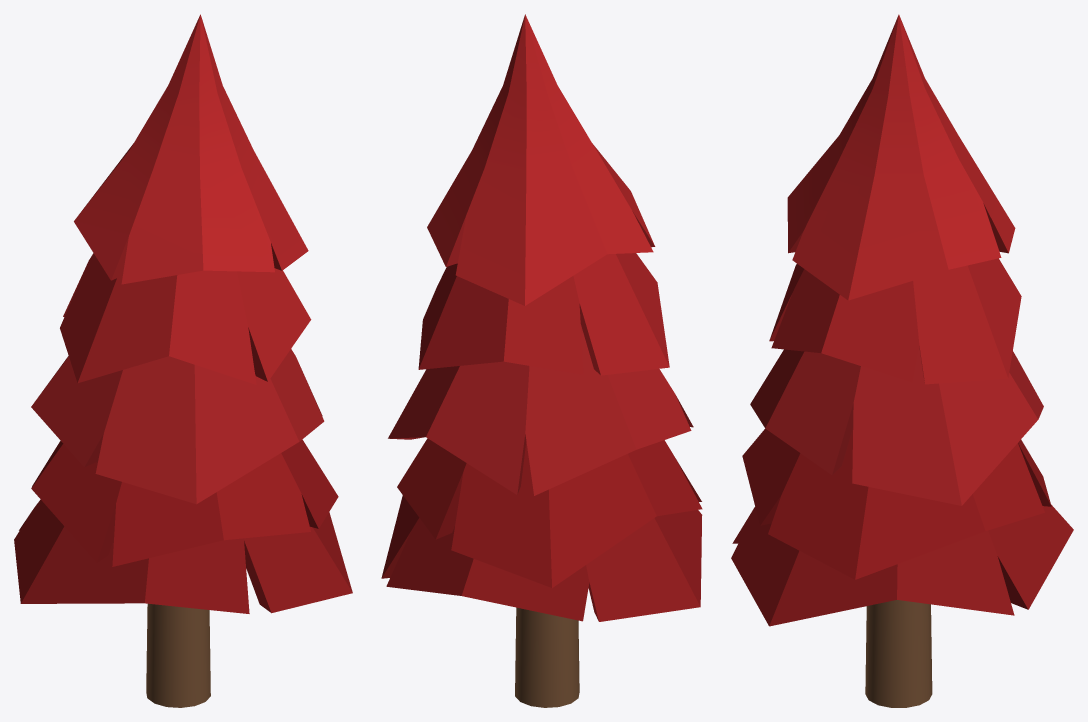
Rendered from Spruce_Red_1.fbx.
3 renders of one model, left to right at view 1: azimuth 30°, elevation 25°; view 2: azimuth 150°, elevation 25°; view 3: azimuth 270°, elevation 25°, orthographic. The views are drawn at different scales.
Visible parts, largest first — view 1: Cylinder.472, Cylinder.473, Cylinder.474, Cylinder.476, Cylinder.475, Cylinder.477; view 2: Cylinder.472, Cylinder.473, Cylinder.475, Cylinder.474, Cylinder.476, Cylinder.477; view 3: Cylinder.472, Cylinder.473, Cylinder.475, Cylinder.474, Cylinder.476, Cylinder.477.
Part boxes in pixels (left/top/right/bottom): Cylinder.472: left=74, top=14, right=308, bottom=284; Cylinder.473: left=31, top=349, right=324, bottom=504; Cylinder.474: left=60, top=253, right=311, bottom=384; Cylinder.476: left=14, top=499, right=352, bottom=613; Cylinder.475: left=31, top=439, right=338, bottom=566; Cylinder.477: left=146, top=603, right=210, bottom=707; Cylinder.472: left=427, top=14, right=655, bottom=305; Cylinder.473: left=388, top=324, right=693, bottom=495; Cylinder.475: left=397, top=438, right=702, bottom=587; Cylinder.474: left=418, top=253, right=669, bottom=375; Cylinder.476: left=381, top=495, right=702, bottom=621; Cylinder.477: left=515, top=607, right=579, bottom=707; Cylinder.472: left=787, top=14, right=1015, bottom=300; Cylinder.473: left=750, top=347, right=1043, bottom=505; Cylinder.475: left=742, top=427, right=1051, bottom=579; Cylinder.474: left=769, top=258, right=1021, bottom=384; Cylinder.476: left=731, top=504, right=1073, bottom=626; Cylinder.477: left=865, top=600, right=932, bottom=707.
Size of the model in its own units: 265 by 567 by 255.
